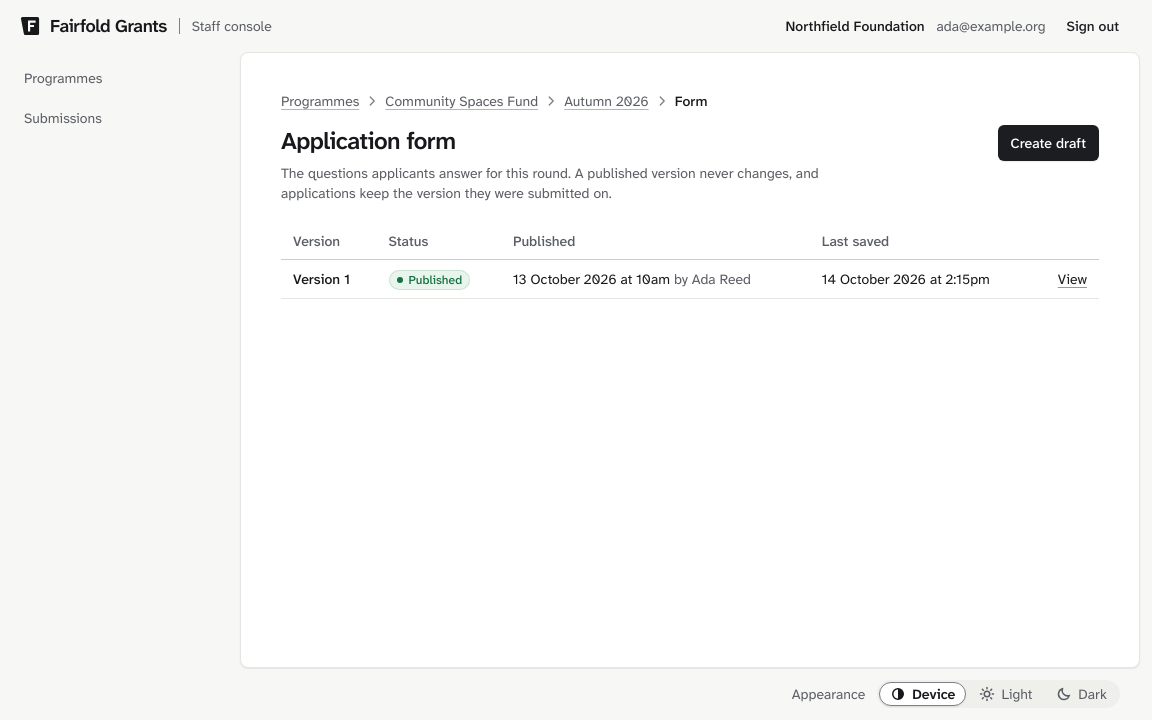
Test: a round's form › says why a draft was not started, in the server's words, and keeps the button
Click the button "Create draft": (1048, 143) [998,125,1099,161]
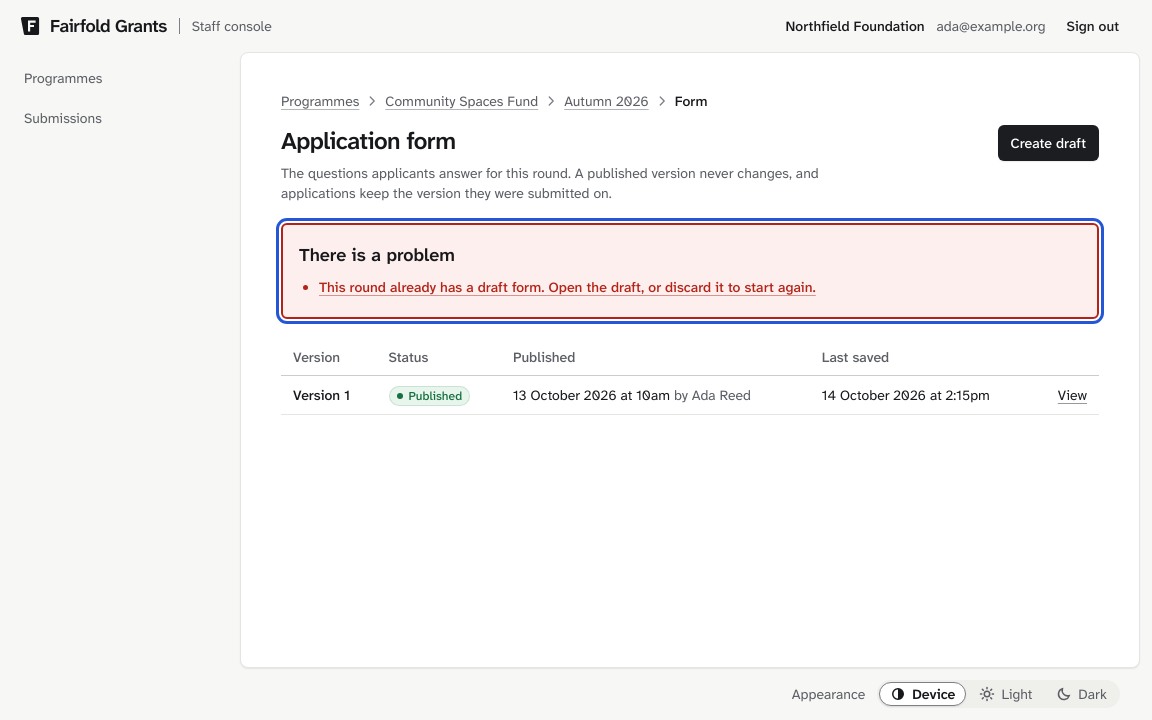
Now the message "There is a problem" shows "This round already has a draft form.", box [319,277,1081,301]
